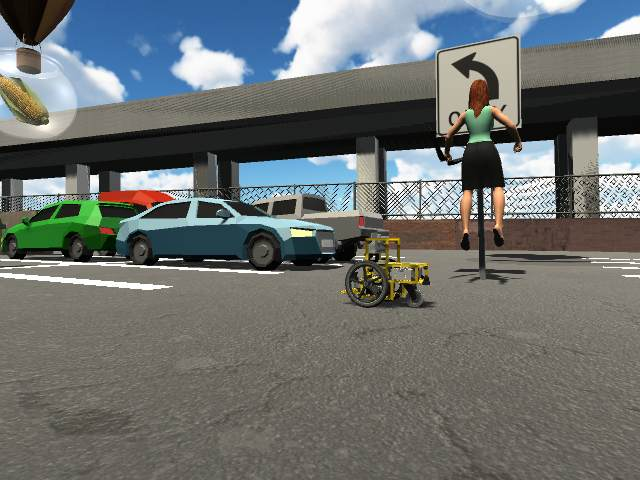arrow_left: (448, 53, 501, 100)
